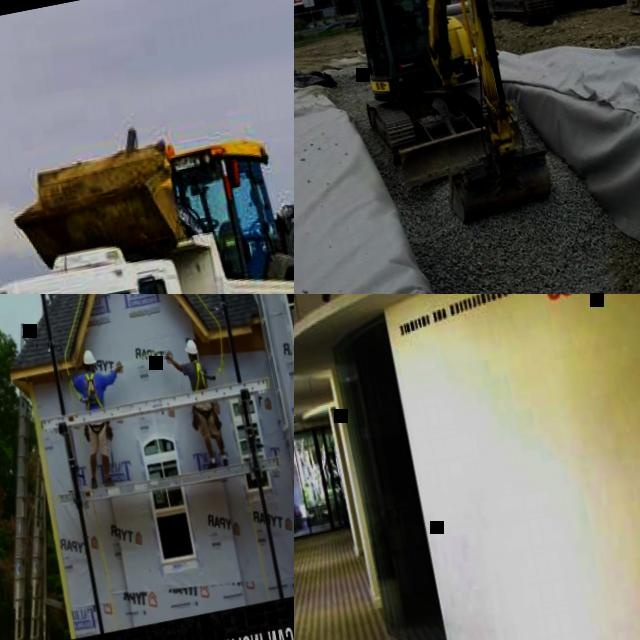Hardhat: (81, 349, 97, 367), (184, 338, 199, 357)
NO-Mask: (189, 355, 193, 362), (92, 368, 96, 372)
NO-Safety Vest: (79, 370, 107, 410), (187, 359, 209, 389)
Person: (67, 344, 147, 489), (161, 336, 229, 472), (378, 0, 412, 38)
machinery: (0, 96, 294, 294), (329, 0, 561, 239), (0, 191, 294, 294)
